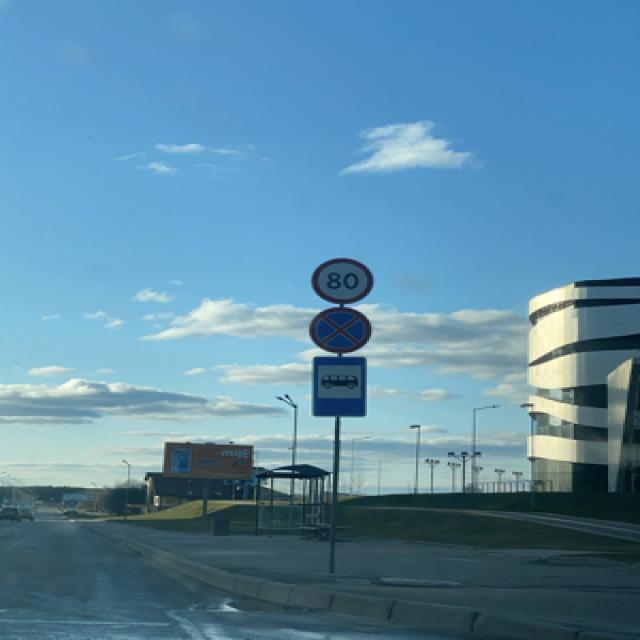speedlimit: (307, 256, 371, 302)
